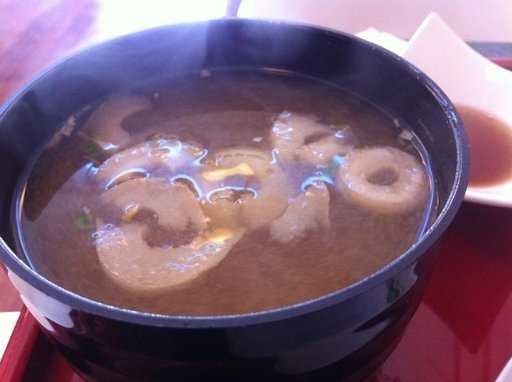soup: (27, 23, 397, 328)
